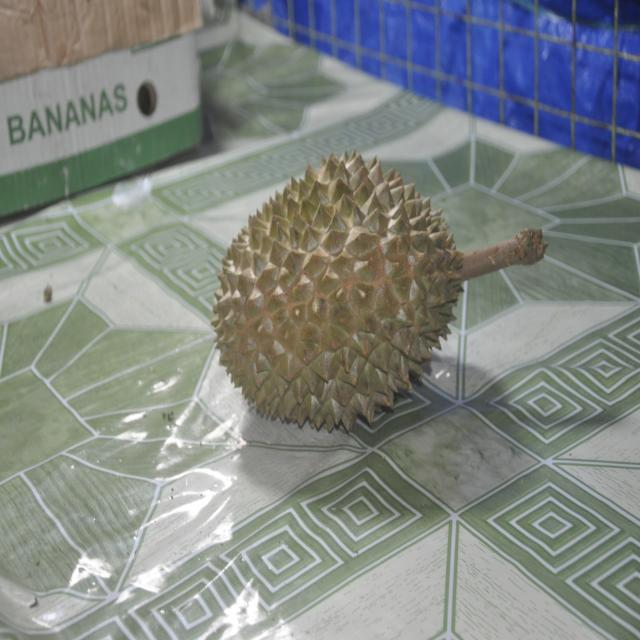mature: (211, 151, 548, 431)
